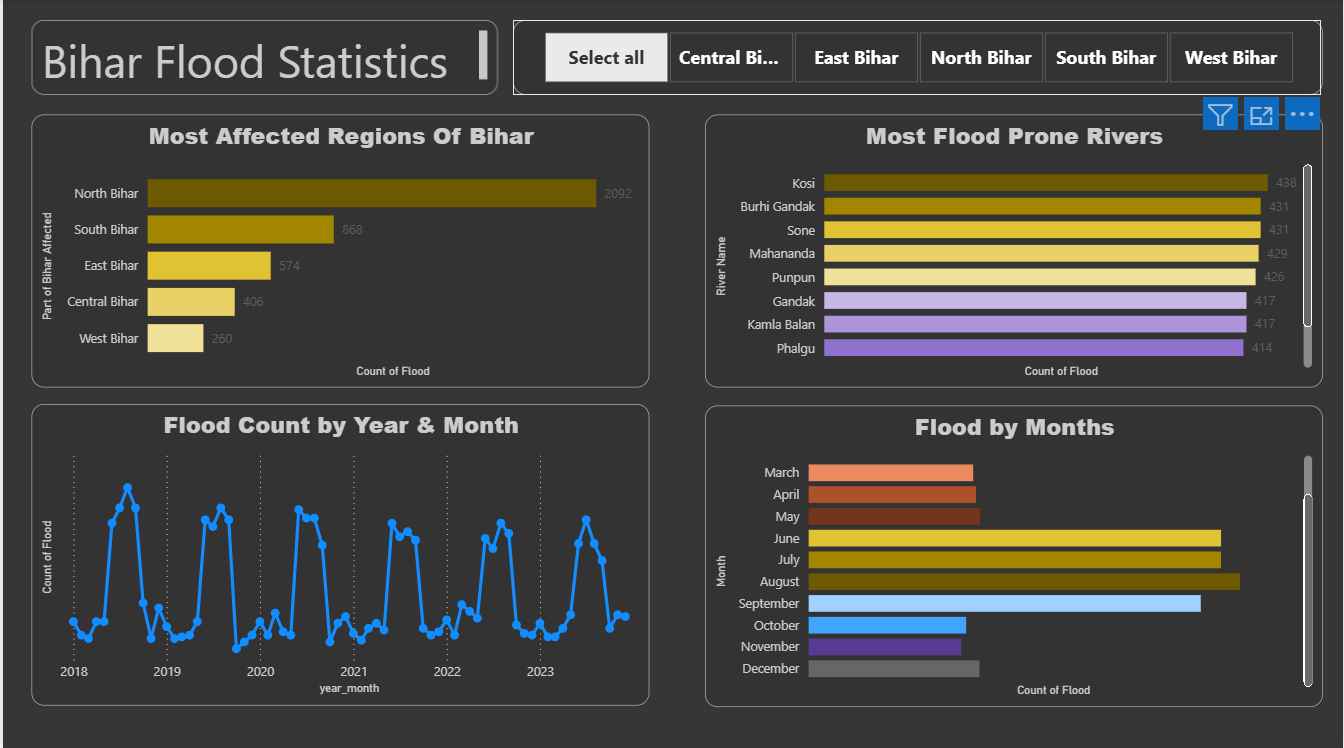

The page's visual inventory and layout, read from the dashboard file:
{"tool":"powerbi","page":{"name":"Page 1","canvas":[1280,720],"ordinal":0},"visuals":[{"type":"clusteredBarChart","title":"Most Affected Regions Of Bihar","fields":{"Category":["bihar_river_flood_data_with_region_year_month.Part of Bihar Affected"],"Y":["CountNonNull(bihar_river_flood_data_with_region_year_month.Flood)"]},"box":[27,109.8,590.1,260.9],"z":0},{"type":"clusteredBarChart","title":"Most Flood Prone Rivers","fields":{"Category":["bihar_river_flood_data_with_region_year_month.River Name"],"Y":["CountNonNull(bihar_river_flood_data_with_region_year_month.Flood)"]},"box":[669.6,109.8,590.1,260.9],"z":1000},{"type":"lineChart","title":"Flood Count by Year & Month","fields":{"Y":["CountNonNull(bihar_river_flood_data_with_region_year_month.Flood)"],"Category":["bihar_river_flood_data_with_region_year_month.year_month"]},"box":[27,386.5,590.1,287.9],"z":2000},{"type":"slicer","fields":{"Values":["bihar_river_flood_data_with_region_year_month.Part of Bihar Affected"]},"box":[486.7,20.7,773,71.6],"z":3000},{"type":"textbox","box":[27,20.7,445.4,71.6],"z":4000},{"type":"clusteredBarChart","title":"Flood by Months","fields":{"Category":["year_month.year_month.Variation.Date Hierarchy.Month"],"Y":["CountNonNull(year_month.Flood)"]},"box":[669.6,388.1,590.1,287.9],"z":4001}]}

Visuals, with their boxes in screenshot pixels (x1, y1, x2, y2), scaled from the page's 1280x720 canvas onto the 1344x748 screenshot:
"Most Affected Regions Of Bihar" clusteredBarChart: [28, 114, 648, 385]
"Most Flood Prone Rivers" clusteredBarChart: [703, 114, 1323, 385]
"Flood Count by Year & Month" lineChart: [28, 402, 648, 701]
slicer - bihar_river_flood_data_with_region_year_month.Part of Bihar Affected: [511, 22, 1323, 96]
textbox: [28, 22, 496, 96]
"Flood by Months" clusteredBarChart: [703, 403, 1323, 702]
